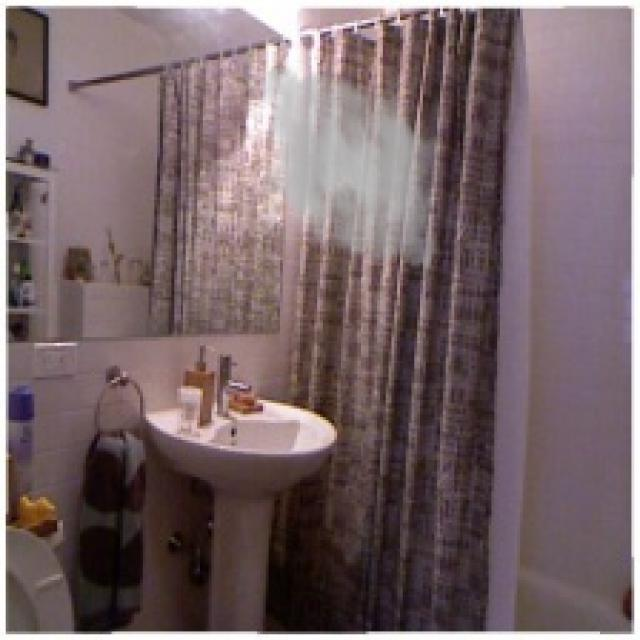Smoke: (249, 57, 457, 277)
